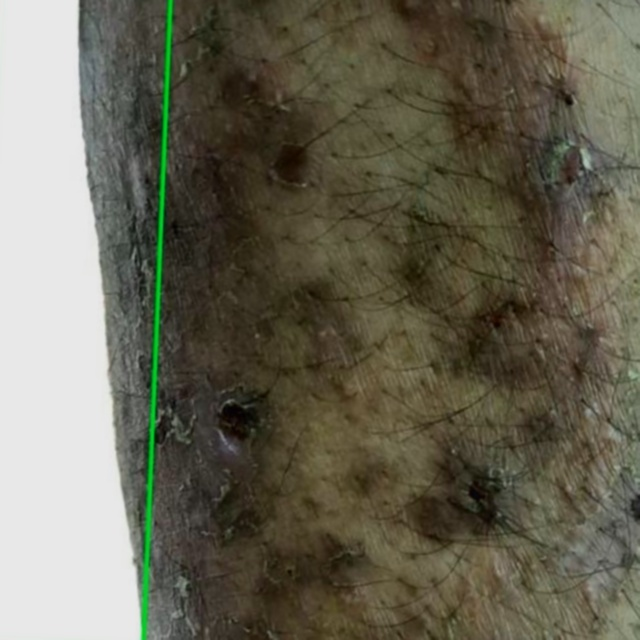Tinea Corporis: (0, 0, 170, 639)
